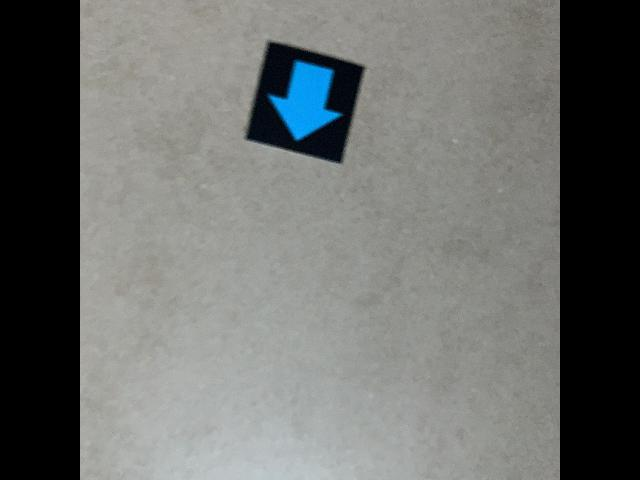down_arrow: (241, 37, 368, 168)
